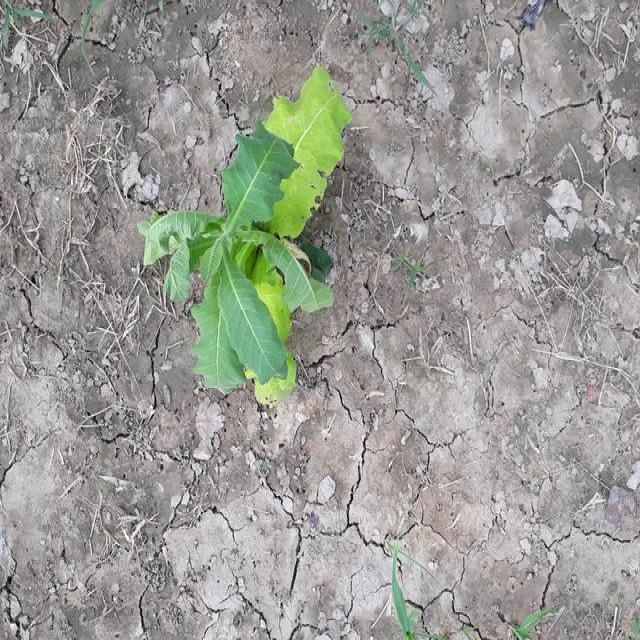crop: (162, 78, 360, 395)
